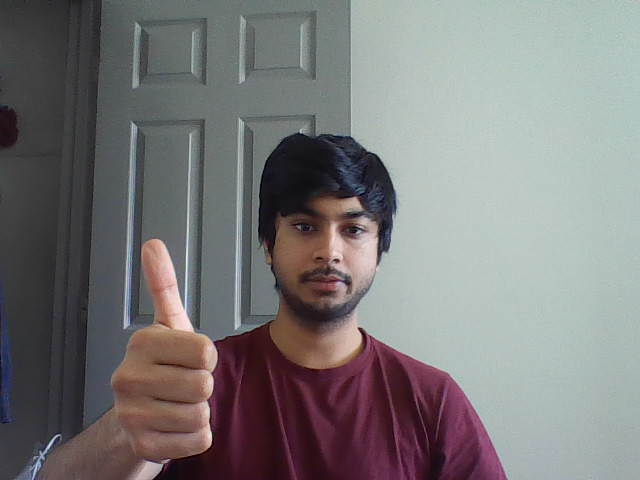confirm: (106, 235, 223, 465)
